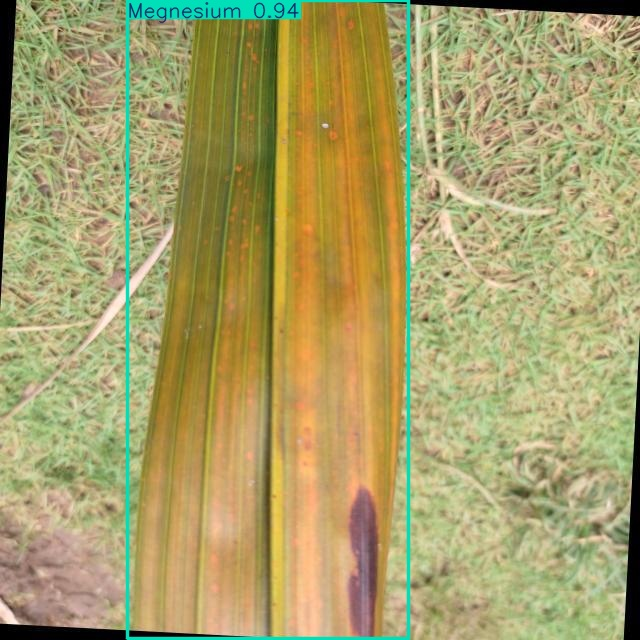Megnesium: (128, 1, 408, 638)
